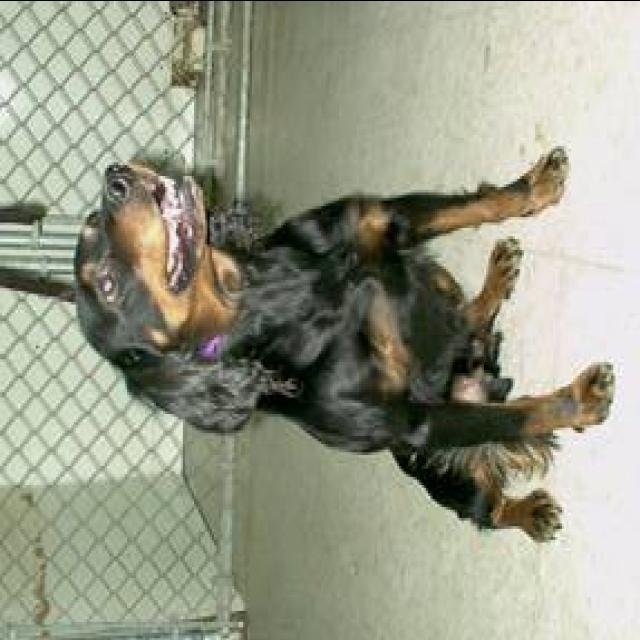dog: (58, 96, 632, 580)
